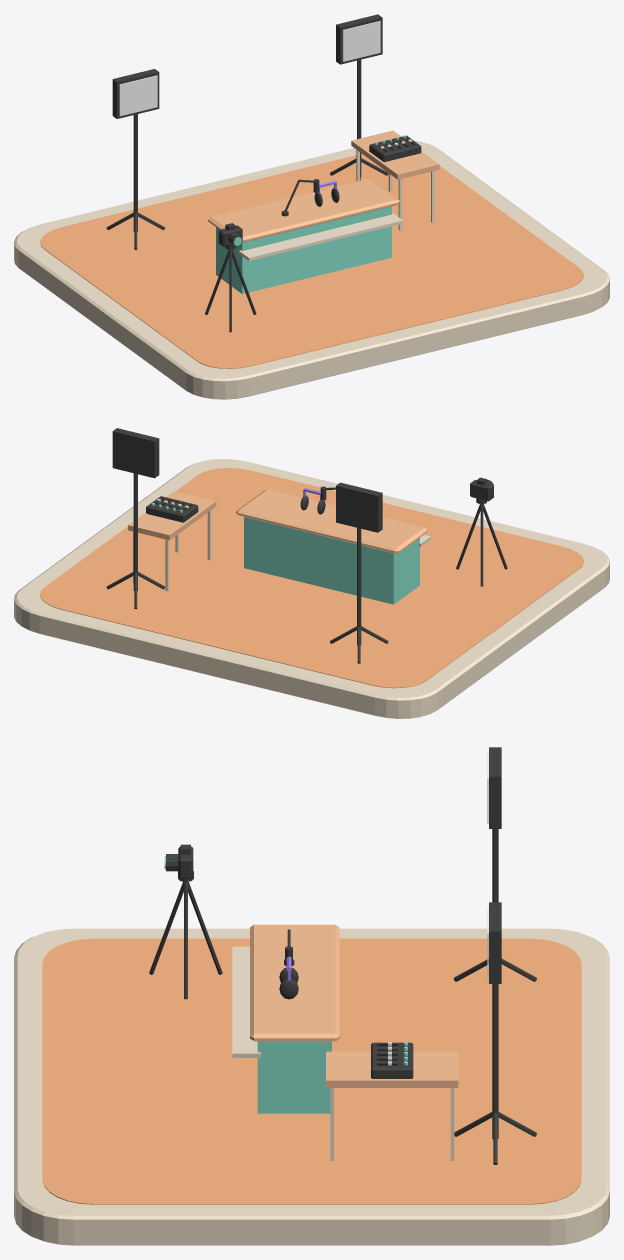
Rendered from room.fbx.
3 views of the same model, one above another, from view 1: azimuth 30°, elevation 25°; view 2: azimuth 150°, elevation 25°; view 3: azimuth 270°, elevation 25° (orthographic). The views are drawn at different scales.
Visible parts, largest first — view 1: COM-02 Floor Surface, COM-01 Rounded Base Direct, Counter body, Countertop, Top, Visitor shelf, Diffuser, Diffuser.001, Audio console, Light panel, Light panel.001, Pole; view 2: COM-02 Floor Surface, COM-01 Rounded Base Direct, Counter body, Countertop, Top, Light panel.001, Light panel, Audio console, Pole, Pole.001; view 3: COM-02 Floor Surface, COM-01 Rounded Base Direct, Countertop, Counter body, Top, Visitor shelf, Audio console, Light panel, Light panel.001, Pole.001.
Boxes of the visible parts, x1,y1,x2,y2 form: COM-02 Floor Surface: [40, 154, 583, 368]; COM-01 Rounded Base Direct: [14, 140, 609, 399]; Counter body: [216, 206, 391, 293]; Countertop: [208, 178, 399, 242]; Top: [351, 130, 439, 230]; Visitor shelf: [239, 213, 402, 260]; Diffuser: [119, 75, 157, 116]; Diffuser.001: [342, 21, 380, 61]; Audio console: [369, 135, 421, 161]; Light panel: [112, 69, 159, 118]; Light panel.001: [336, 14, 382, 64]; Pole: [133, 114, 137, 231]; COM-02 Floor Surface: [40, 468, 583, 688]; COM-01 Rounded Base Direct: [14, 459, 609, 718]; Counter body: [244, 517, 419, 604]; Countertop: [236, 489, 427, 553]; Top: [128, 491, 216, 591]; Light panel.001: [112, 428, 159, 478]; Light panel: [336, 482, 382, 532]; Audio console: [146, 496, 198, 522]; Pole: [357, 528, 361, 645]; Pole.001: [133, 473, 137, 590]; COM-02 Floor Surface: [42, 938, 581, 1204]; COM-01 Rounded Base Direct: [14, 928, 609, 1245]; Countertop: [250, 924, 339, 1041]; Counter body: [257, 1041, 331, 1113]; Top: [326, 1051, 458, 1160]; Visitor shelf: [232, 946, 260, 1057]; Audio console: [371, 1042, 413, 1078]; Light panel: [489, 747, 501, 828]; Light panel.001: [489, 902, 501, 983]; Pole.001: [492, 984, 498, 1139].
Size of the model in its own units: 600 by 253 by 520.
